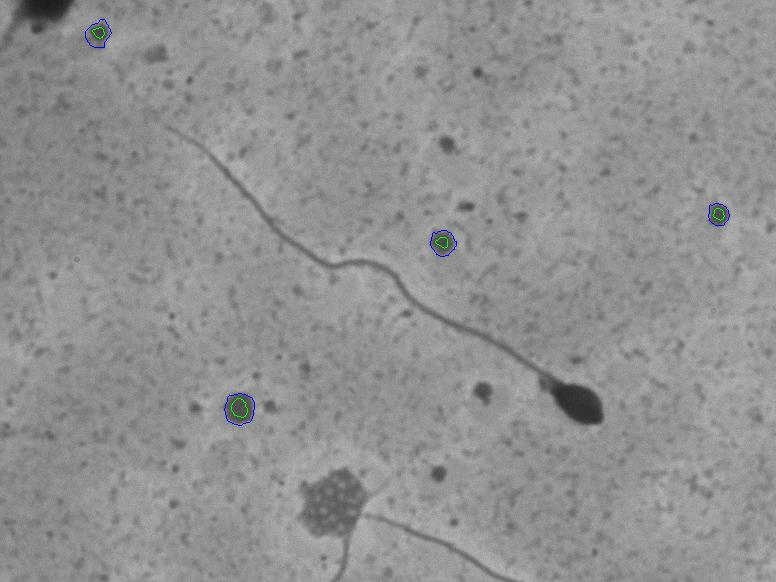Abnormal: (166, 116, 632, 452)
